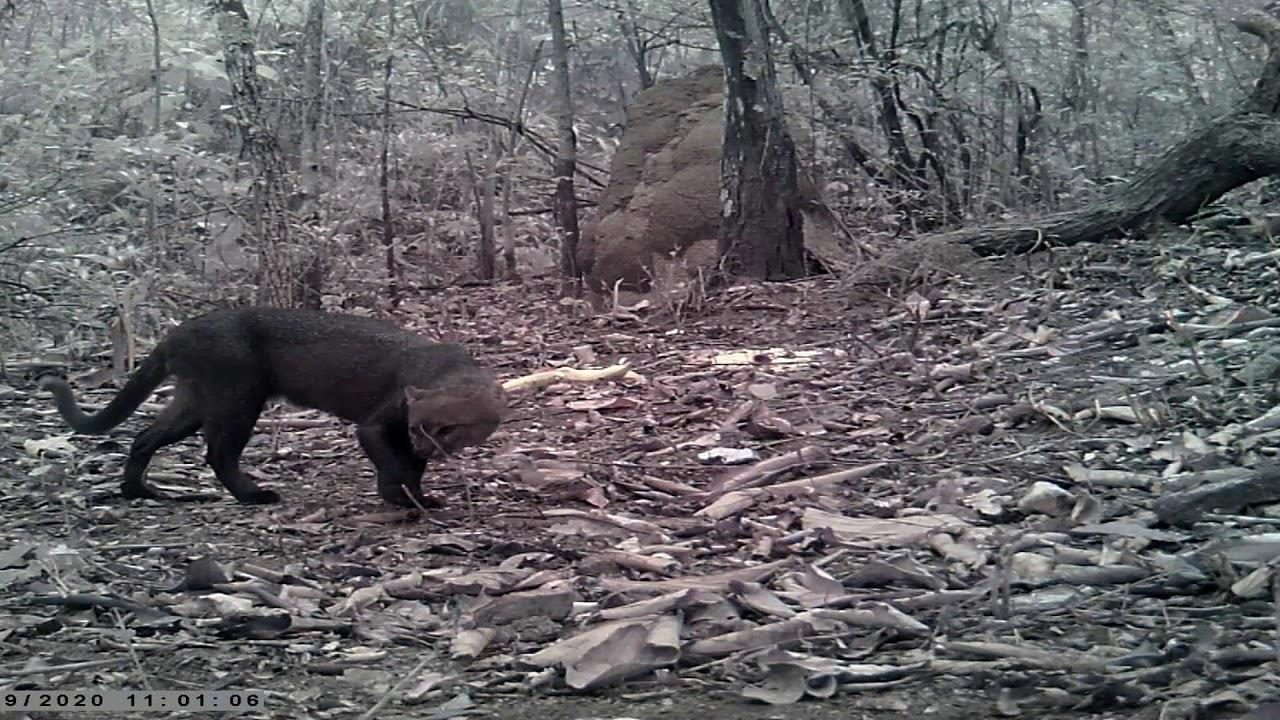Jaguarundi: (25, 290, 536, 521)
